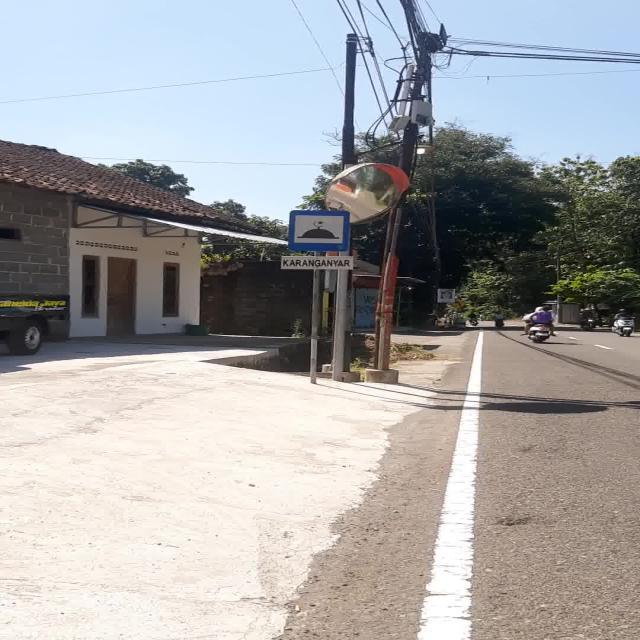Masjid: (289, 210, 350, 250)
